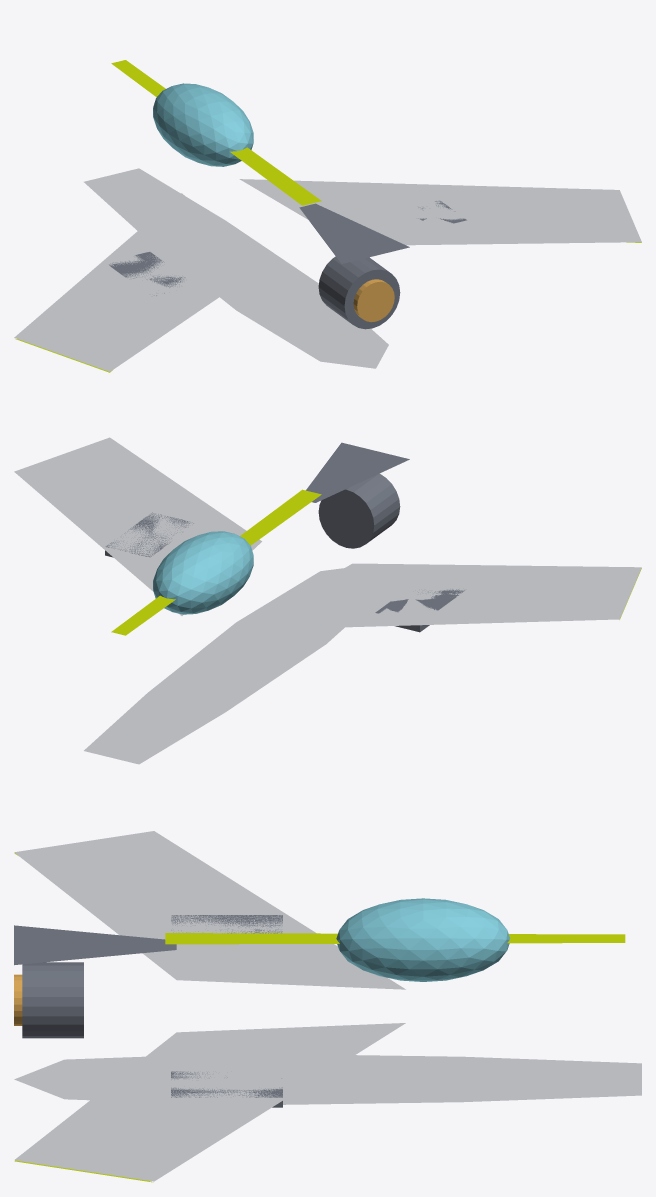
The model's file is nave_base.glb.
3 views of the same model, one above another, from view 1: azimuth 30°, elevation 25°; view 2: azimuth 150°, elevation 25°; view 3: azimuth 270°, elevation 25° (orthographic). The views are drawn at different scales.
Parts seen in each view (by area): view 1: nave_ala_izq, nave_ala_der, nave_casco, nave_cabina, nave_tobera_central, nave_aleta, franja_central, interior_tobera, detalle_metal_izq; view 2: nave_ala_izq, nave_ala_der, nave_casco, nave_cabina, nave_tobera_central, nave_aleta, franja_central, detalle_metal_der, detalle_metal_izq; view 3: nave_ala_der, nave_ala_izq, nave_casco, nave_cabina, nave_tobera_central, nave_aleta, franja_central, detalle_metal_izq, detalle_metal_der.
Part boxes in pixels (bbox=[...]): nave_ala_izq: bbox=[14, 193, 261, 371]; nave_ala_der: bbox=[239, 179, 641, 245]; nave_casco: bbox=[84, 168, 388, 368]; nave_cabina: bbox=[153, 83, 253, 166]; nave_tobera_central: bbox=[318, 256, 400, 329]; nave_aleta: bbox=[299, 203, 409, 263]; franja_central: bbox=[111, 60, 321, 205]; interior_tobera: bbox=[353, 279, 394, 322]; detalle_metal_izq: bbox=[109, 252, 185, 295]; nave_ala_izq: bbox=[240, 563, 641, 630]; nave_ala_der: bbox=[14, 437, 261, 615]; nave_casco: bbox=[84, 568, 344, 764]; nave_cabina: bbox=[153, 531, 253, 614]; nave_tobera_central: bbox=[318, 473, 400, 548]; nave_aleta: bbox=[306, 442, 409, 502]; franja_central: bbox=[111, 489, 321, 635]; detalle_metal_der: bbox=[105, 512, 193, 557]; detalle_metal_izq: bbox=[375, 589, 464, 632]; nave_ala_der: bbox=[14, 1023, 405, 1181]; nave_ala_izq: bbox=[14, 831, 405, 989]; nave_casco: bbox=[14, 1055, 641, 1104]; nave_cabina: bbox=[336, 898, 510, 981]; nave_tobera_central: bbox=[22, 962, 83, 1038]; nave_aleta: bbox=[14, 925, 176, 965]; franja_central: bbox=[165, 933, 625, 944]; detalle_metal_izq: bbox=[171, 915, 282, 933]; detalle_metal_der: bbox=[171, 1071, 282, 1107].
Bounding box in the file's own units: 7.4 × 1.8 × 5.6.
